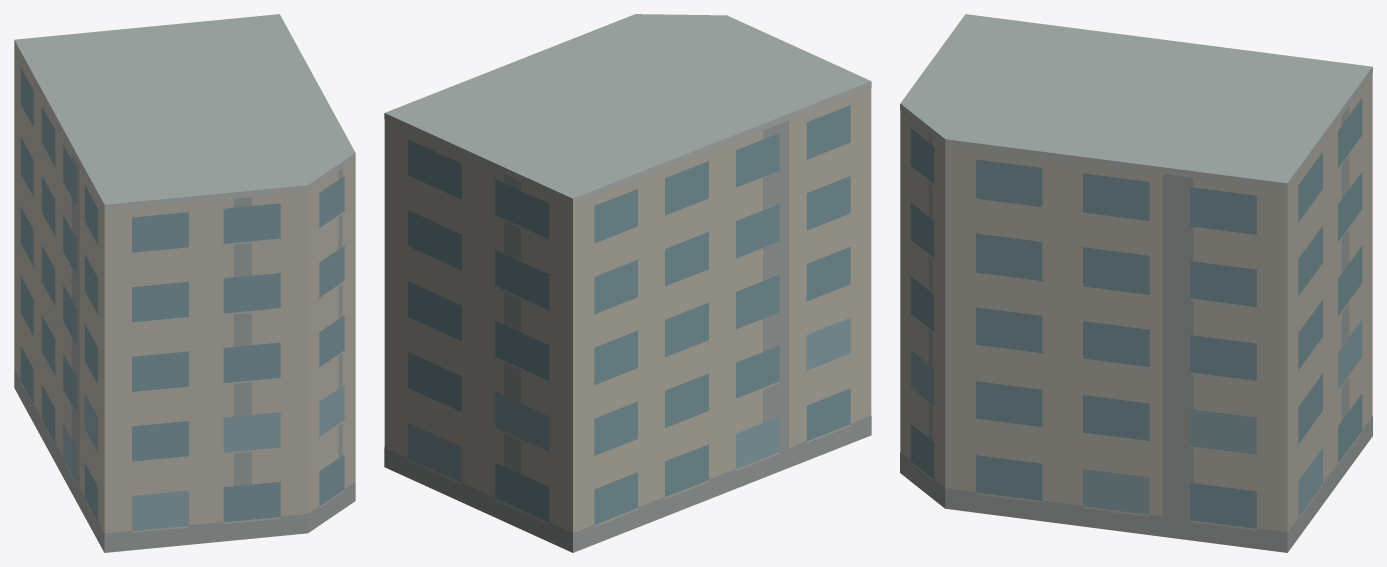
File: survey-upis-33014557.glb
3 renders of one model, left to right at view 1: azimuth 30°, elevation 25°; view 2: azimuth 150°, elevation 25°; view 3: azimuth 270°, elevation 25°, orthographic. The views are drawn at different scales.
Visible parts, largest first — view 1: survey-upis-33014557.tmp; view 2: survey-upis-33014557.tmp; view 3: survey-upis-33014557.tmp.
Boxes of the visible parts, left/top/right/bottom form: survey-upis-33014557.tmp: left=14, top=14, right=355, bottom=552; survey-upis-33014557.tmp: left=384, top=14, right=871, bottom=552; survey-upis-33014557.tmp: left=900, top=14, right=1372, bottom=552.
Size of the model in its own units: 13.03 by 13.25 by 15.36.
